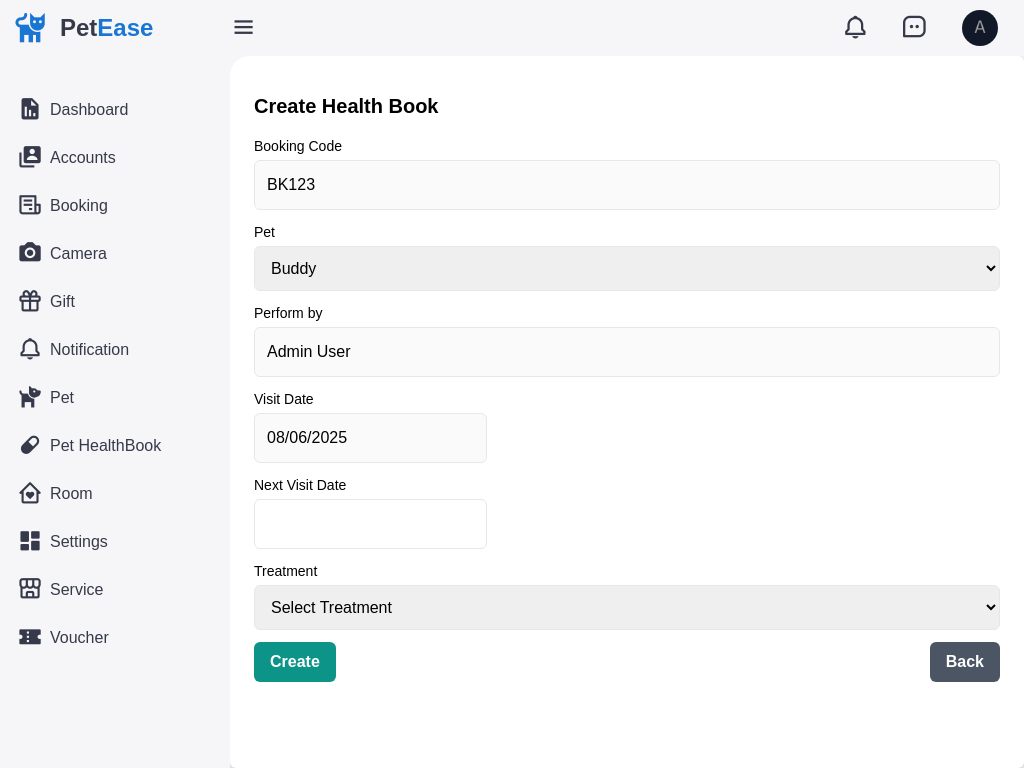
Test: Pet Health Book Edit Page › should show error if required fields are missing
This screenshot has width=1024, height=768.
What coordinates should you click on to do the following:
click the button "Create"
I would click on:
 (295, 662)
Its box is [254,642,336,682].
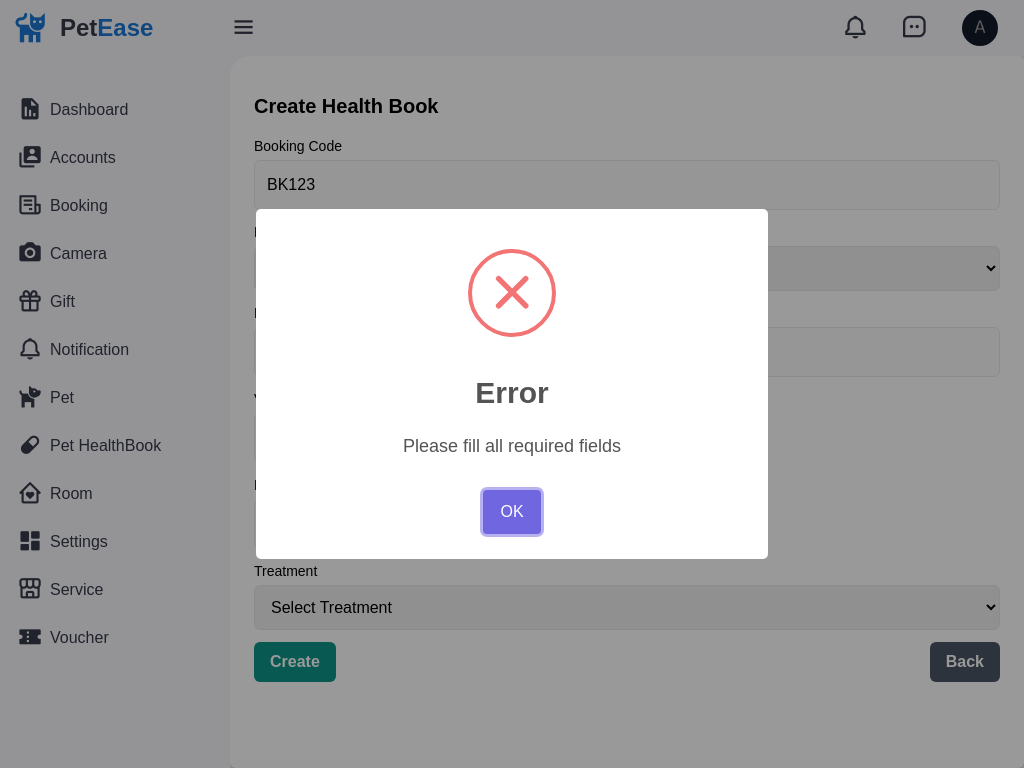
Expected: the dialog with class "swal2-popup" is shown, [256,209,768,560]
Expected: the heading "Error" is shown, [475,376,549,409]
